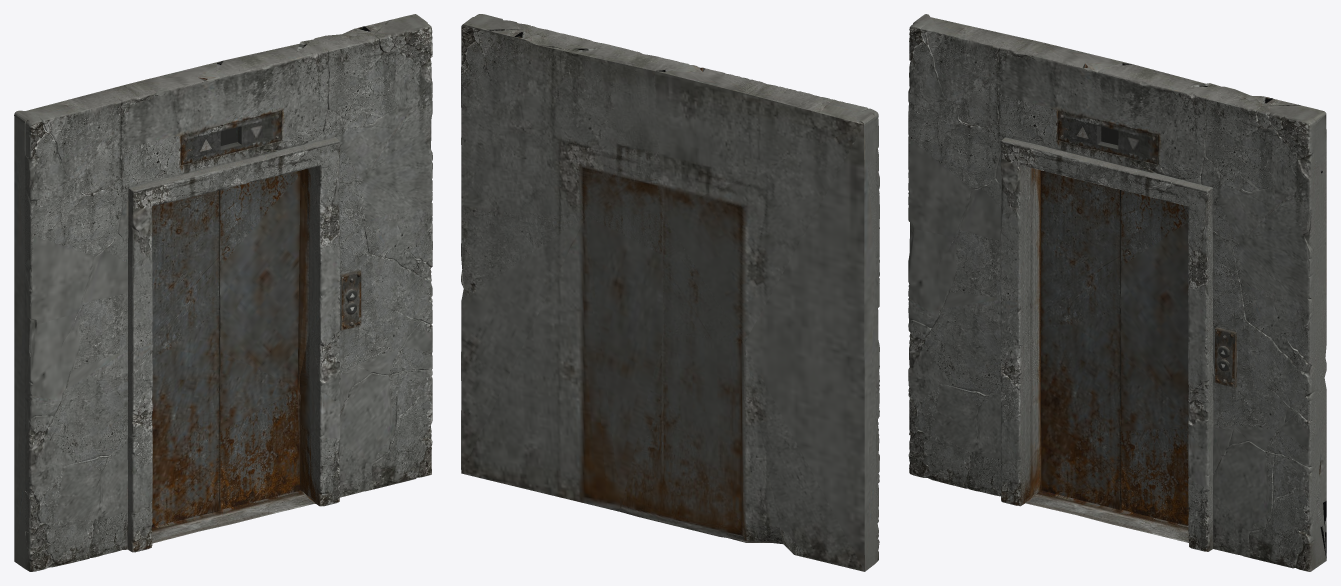
File: elevator_wall_14k.glb
The picture shows the model from 3 angles, left to right: view 1: azimuth 30°, elevation 25°; view 2: azimuth 150°, elevation 25°; view 3: azimuth 330°, elevation 25°; orthographic projection.
Parts seen in each view (by area): view 1: output_unwrapped; view 2: output_unwrapped; view 3: output_unwrapped.
Boxes of the visible parts, x1,y1,x2,y2 form: output_unwrapped: (14,14,432,571); output_unwrapped: (461,14,879,571); output_unwrapped: (908,14,1326,571).
Bounding box in the file's own units: 1.79 × 1.9 × 0.1652.
1 material, 1 textured.
